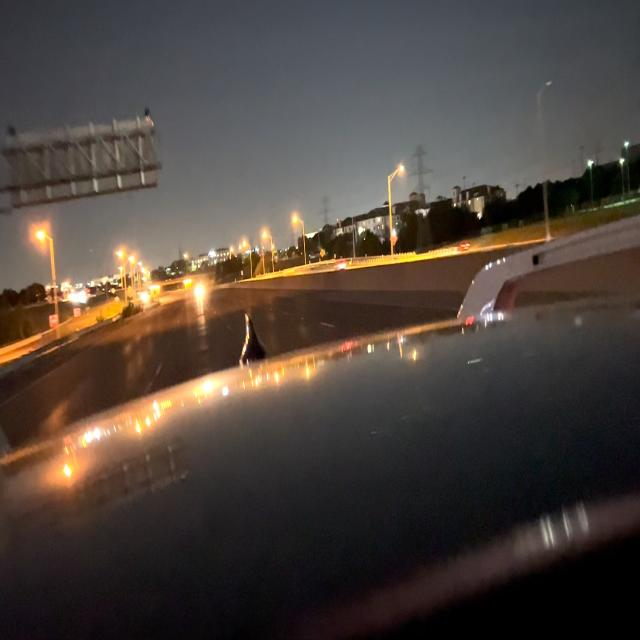back-of-sign: (0, 120, 158, 205)
